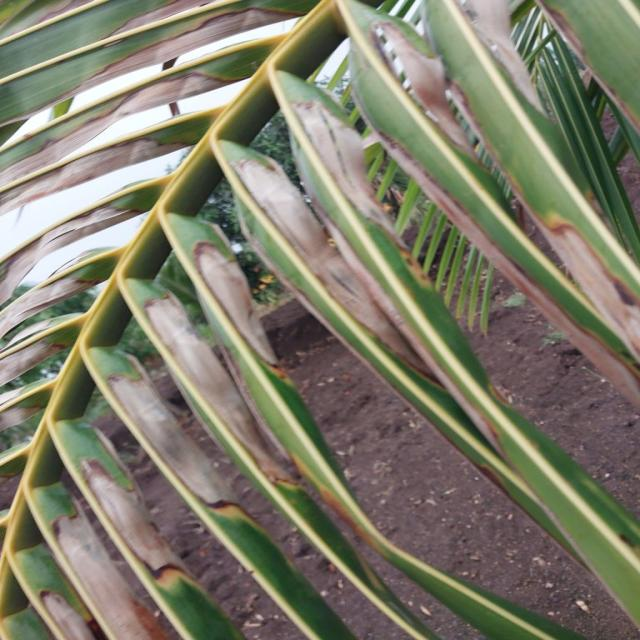gray leaf spot: (0, 4, 518, 634)
